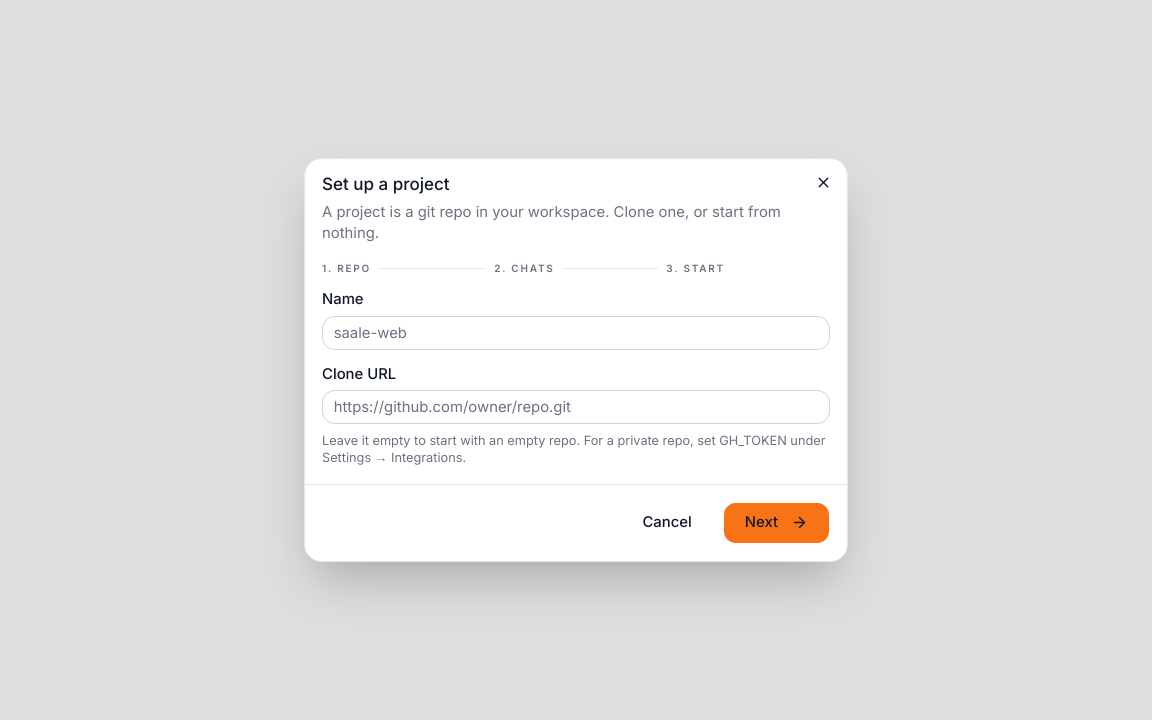
it: ProjectCreateDialog › keeps the flow open with the server's reason
The image size is (1152, 720).
Type "Saale Web" into the field labelled "Name" at [576, 333], box [322,316,830,350]
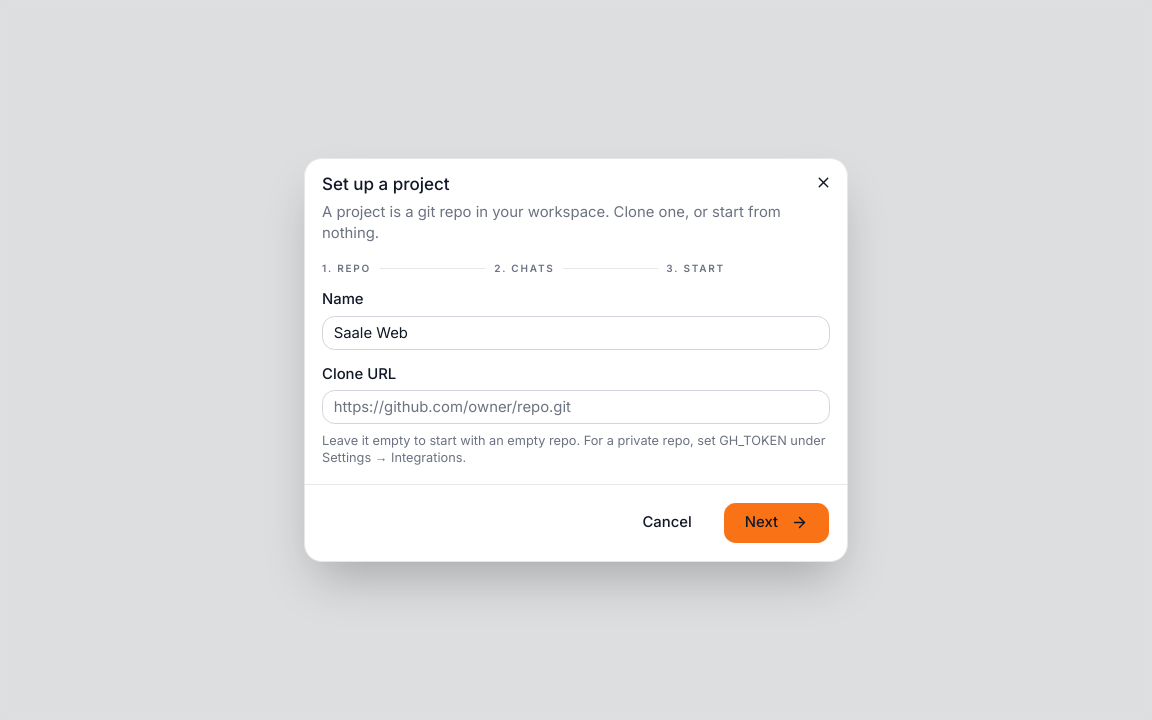
Click the button "Next" at [776, 523], box [722,502,830,544]
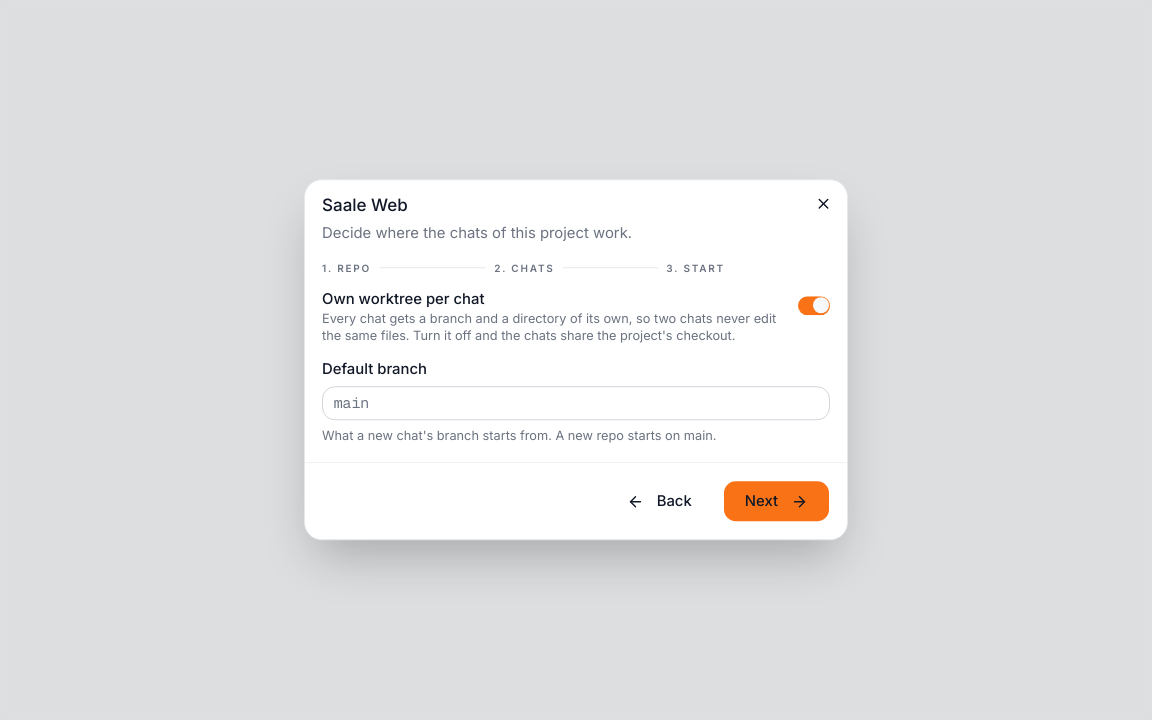
Click the button "Next" at [776, 501], box [722,480,830,523]
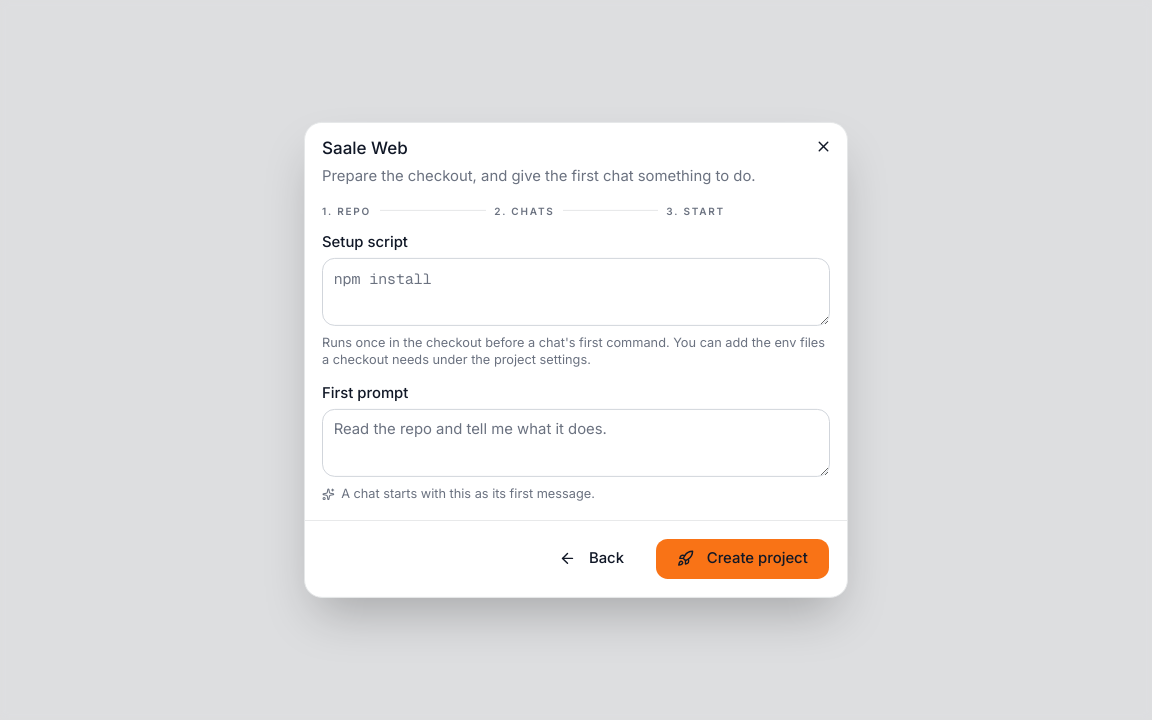
Click the button "Create project" at [742, 559], box [655,538,830,580]
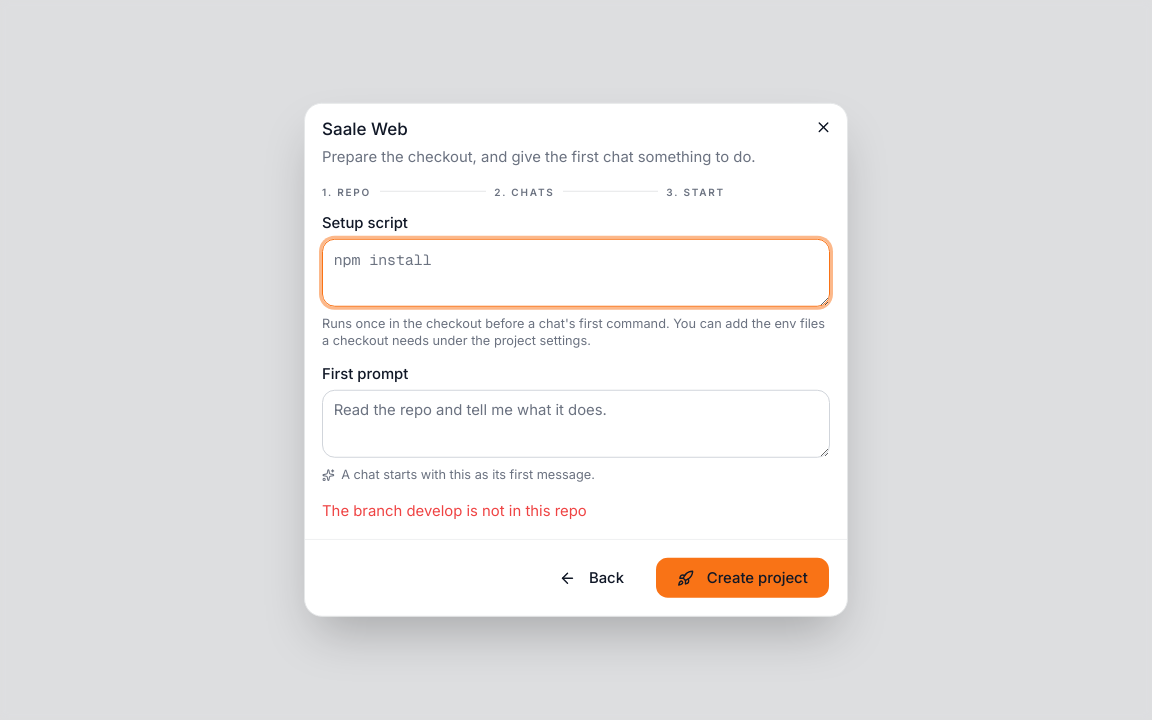
Expected: the dialog is shown, [304,103,848,617]
Result: the text "The branch develop is not in this repo" is shown at [322,502,587,520]
